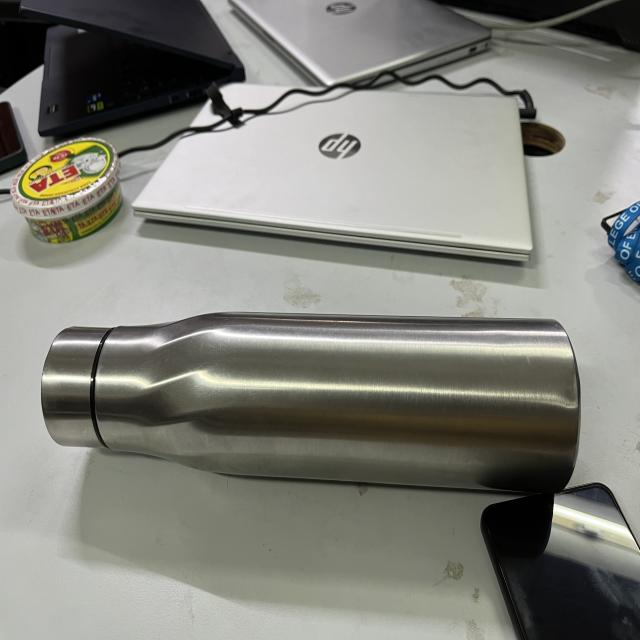L3: (18, 302, 597, 493)
